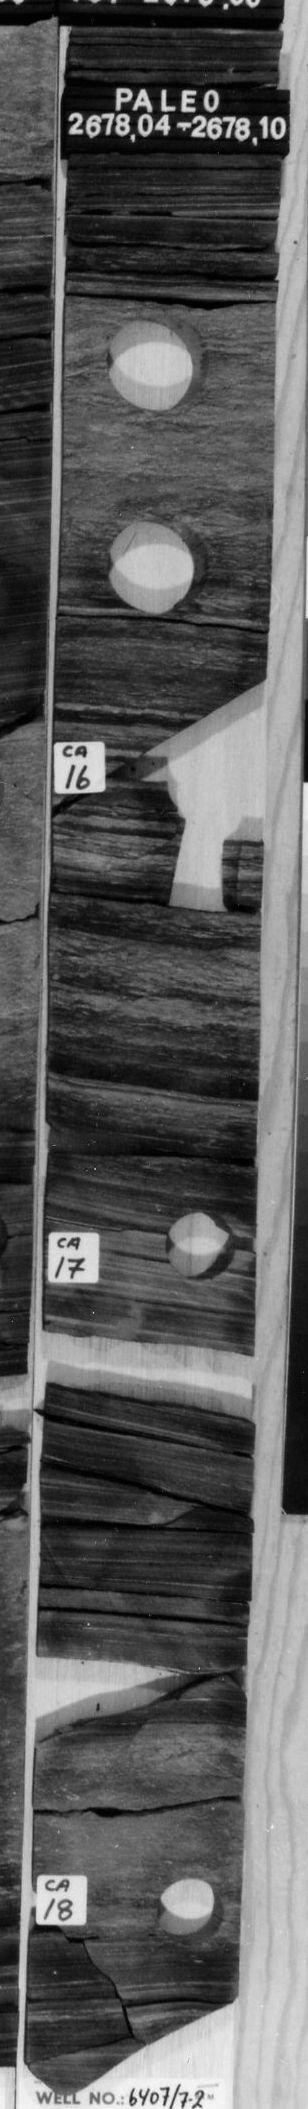hplug: (155, 1198, 247, 1291), (151, 1872, 227, 1950)
scal: (38, 1645, 230, 1740), (97, 297, 218, 422), (95, 500, 211, 621)
vplug: (156, 819, 243, 919)
